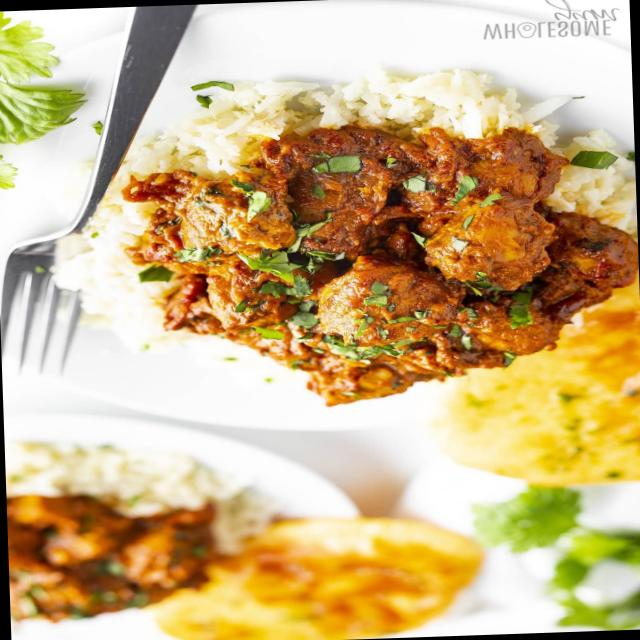chicken: (153, 109, 618, 374)
